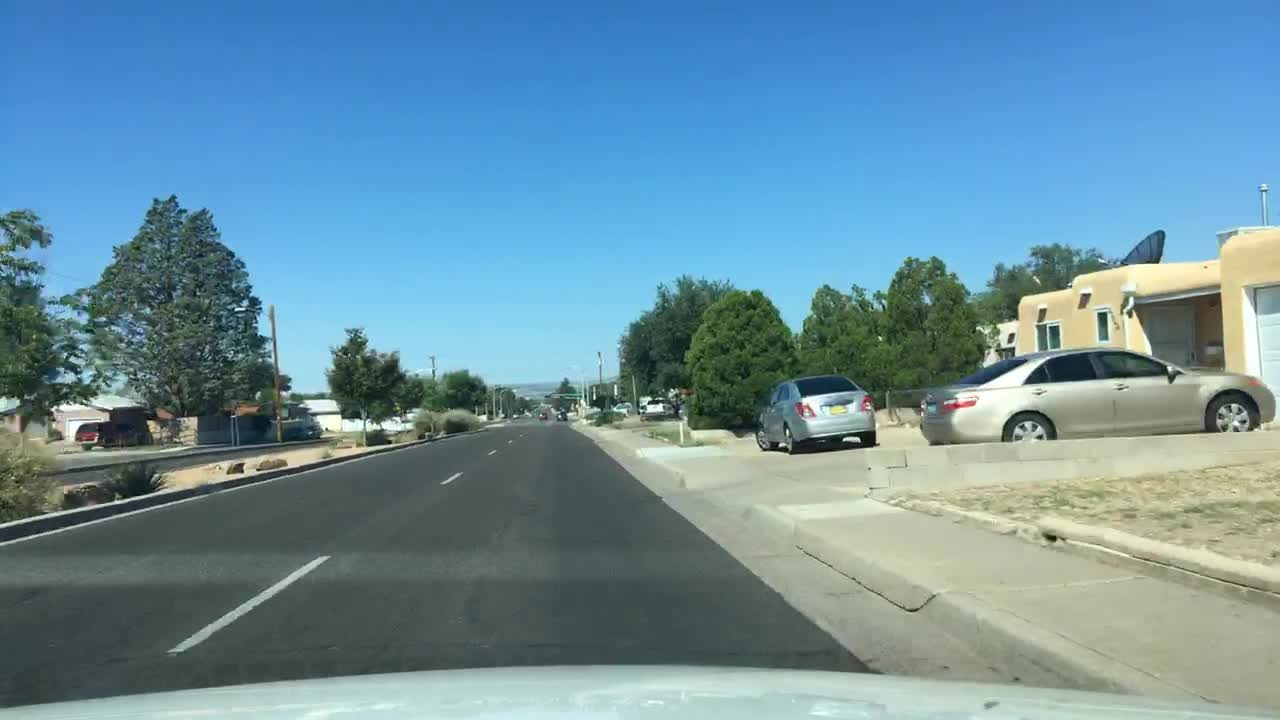car: (917, 344, 1277, 443), (754, 370, 878, 455), (74, 417, 128, 452), (641, 397, 677, 421), (283, 423, 325, 442), (610, 400, 634, 417), (537, 411, 552, 424), (556, 409, 569, 423), (529, 407, 541, 419), (508, 411, 522, 421)
